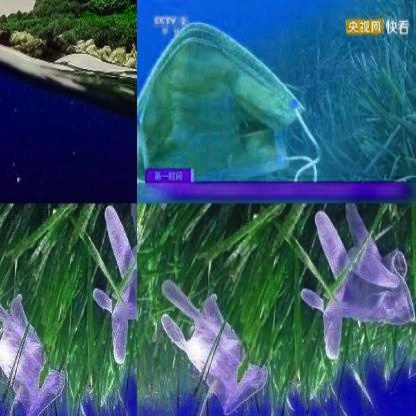Mask: (138, 20, 320, 182)
glove: (300, 203, 416, 362), (160, 273, 271, 415), (0, 272, 68, 414), (93, 203, 136, 368)
